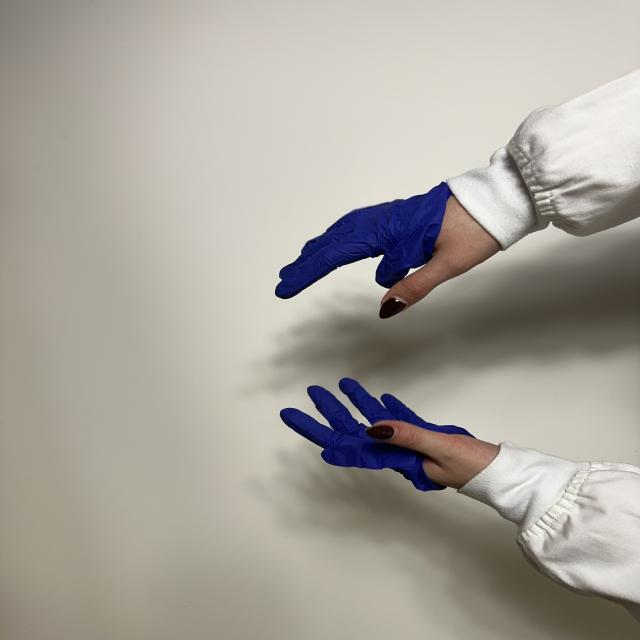glove_partial: (276, 182, 500, 318), (280, 378, 500, 491)
